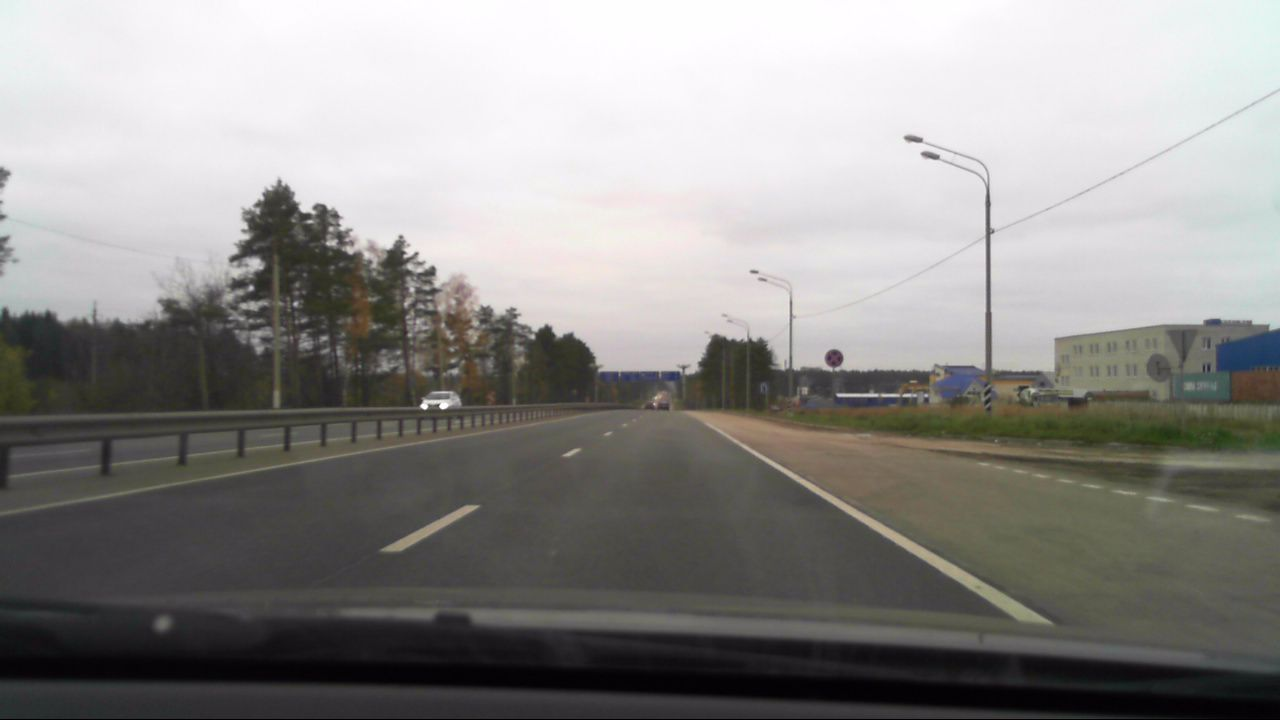No Parking: (820, 343, 847, 369)
